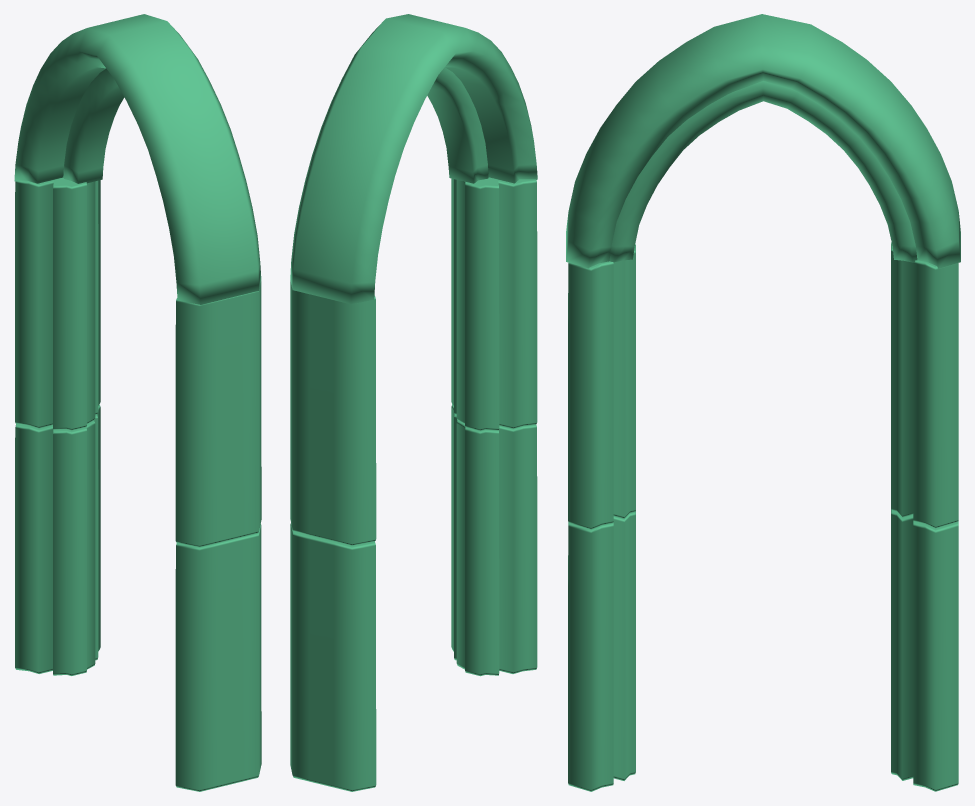
Rendered from Door_Gate_02_Lod0.fbx.
3 renders of one model, left to right at view 1: azimuth 30°, elevation 25°; view 2: azimuth 150°, elevation 25°; view 3: azimuth 270°, elevation 25°, orthographic. The views are drawn at different scales.
Parts seen in each view (by area): view 1: Door_Gate_02_Lod0; view 2: Door_Gate_02_Lod0; view 3: Door_Gate_02_Lod0.
Boxes of the visible parts, <box> form: Door_Gate_02_Lod0: <box>14,14,261,791</box>; Door_Gate_02_Lod0: <box>290,14,537,791</box>; Door_Gate_02_Lod0: <box>566,14,960,791</box>.
Size of the model in its own units: 55.14 by 424 by 205.
